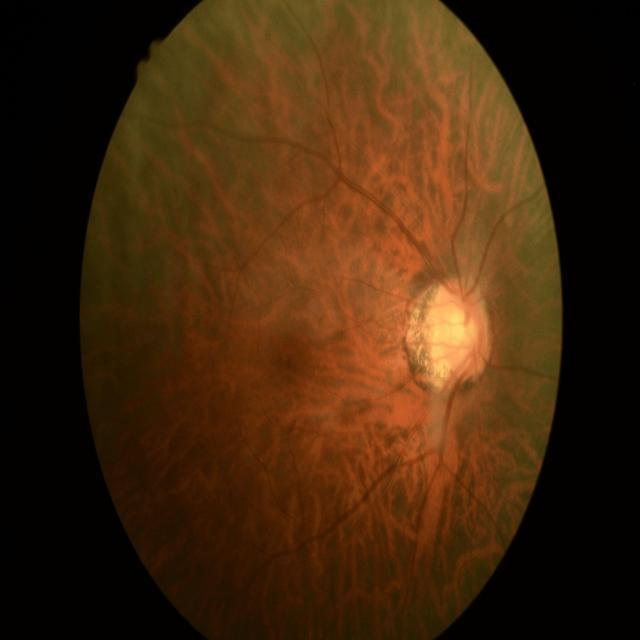cup: (446, 296, 479, 369)
disk: (425, 276, 492, 381)
